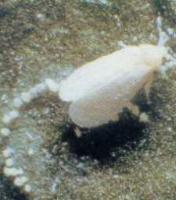whitefly: (57, 19, 175, 130)
